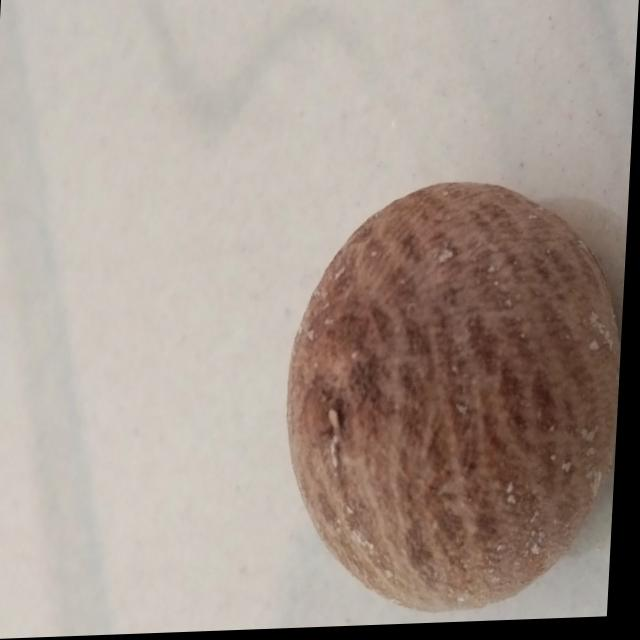good: (265, 158, 632, 632)
